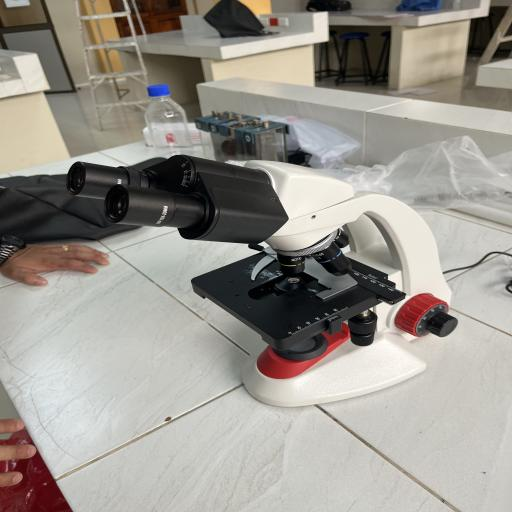Microscopio_Binocular: (58, 135, 462, 421)
